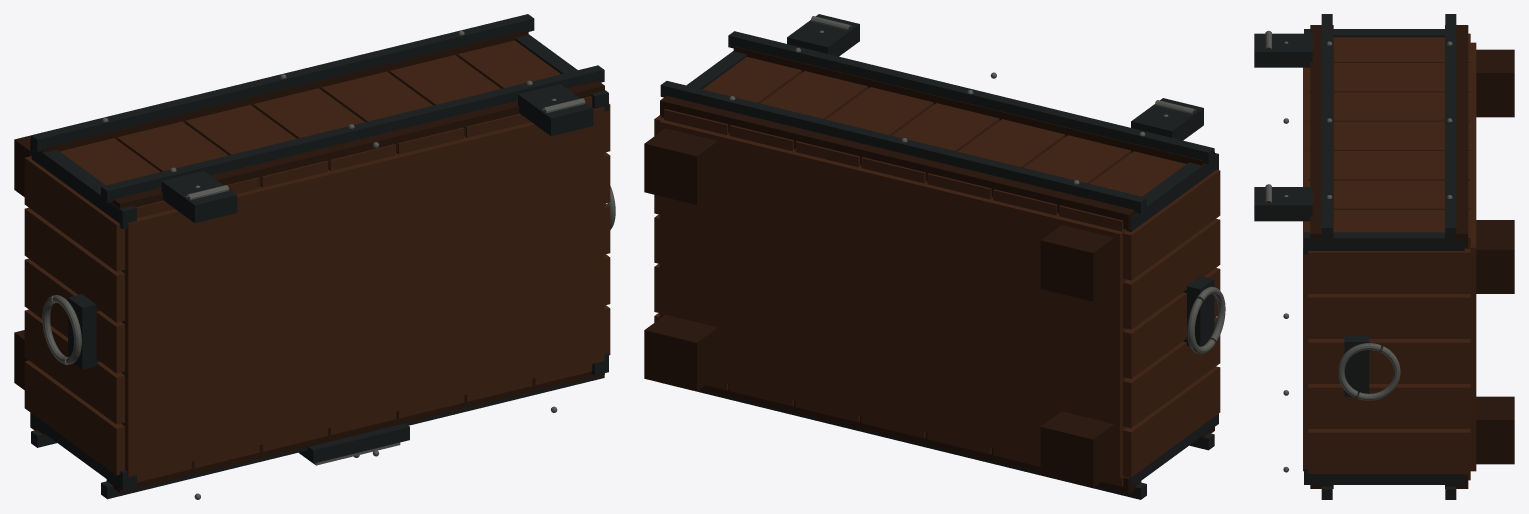
File: SM_GateWardenChest_Base_1348_v1.obj
3 renders of one model, left to right at view 1: azimuth 30°, elevation 25°; view 2: azimuth 150°, elevation 25°; view 3: azimuth 270°, elevation 25°, orthographic. The views are drawn at different scales.
Visible parts, largest first — view 1: Dovetailed_Oak_Base, Black_Iron_Base_Band_1_0.11, Black_Iron_Base_Band_1_0.322, Lower_Frame_1_0.331, Side_Oak_Stave_-1_0, Side_Oak_Stave_-1_3, Side_Oak_Stave_-1_4, Back_Hinge_Castings, Iron_Corner_Binding, Side_Oak_Stave_-1_1, Vertical_Handplaned_Stave_1_2, Vertical_Handplaned_Stave_1_4 (+13 smaller); view 2: Dovetailed_Oak_Base, Black_Iron_Base_Band_1_0.322, Black_Iron_Base_Band_1_0.11, Lower_Frame_1_0.1, Side_Oak_Stave_-1_0, Side_Oak_Stave_-1_3, Side_Oak_Stave_-1_4, Corner_Leg_-1_1, Corner_Leg_-1_-1, Corner_Leg_1_-1, Corner_Leg_1_1, Side_Oak_Stave_-1_1 (+15 smaller); view 3: Side_Oak_Stave_1_0, Side_Oak_Stave_1_3, Side_Oak_Stave_1_4, Side_Oak_Stave_1_1, Side_Oak_Stave_1_2, Iron_Corner_Binding, Dovetailed_Oak_Base, Back_Hinge_Castings, Vertical_Handplaned_Stave_1_2, Vertical_Handplaned_Stave_1_4, Vertical_Handplaned_Stave_1_3, Vertical_Handplaned_Stave_1_1 (+12 smaller).
Part boxes in pixels (bbox=[...]): Dovetailed_Oak_Base: bbox=[30, 107, 604, 476]; Black_Iron_Base_Band_1_0.11: bbox=[31, 14, 534, 151]; Black_Iron_Base_Band_1_0.322: bbox=[101, 65, 604, 202]; Lower_Frame_1_0.331: bbox=[111, 81, 604, 208]; Side_Oak_Stave_-1_0: bbox=[24, 360, 124, 475]; Side_Oak_Stave_-1_3: bbox=[24, 207, 124, 322]; Side_Oak_Stave_-1_4: bbox=[24, 156, 124, 271]; Back_Hinge_Castings: bbox=[161, 84, 593, 223]; Iron_Corner_Binding: bbox=[31, 34, 608, 490]; Side_Oak_Stave_-1_1: bbox=[24, 309, 124, 424]; Vertical_Handplaned_Stave_1_2: bbox=[185, 105, 327, 187]; Vertical_Handplaned_Stave_1_4: bbox=[321, 71, 464, 154]; Dovetailed_Oak_Base: bbox=[659, 119, 1126, 478]; Black_Iron_Base_Band_1_0.322: bbox=[728, 31, 1214, 164]; Black_Iron_Base_Band_1_0.11: bbox=[660, 81, 1146, 213]; Lower_Frame_1_0.1: bbox=[660, 96, 1136, 229]; Side_Oak_Stave_-1_0: bbox=[1123, 366, 1220, 477]; Side_Oak_Stave_-1_3: bbox=[1123, 218, 1220, 329]; Side_Oak_Stave_-1_4: bbox=[1123, 169, 1220, 280]; Corner_Leg_-1_1: bbox=[1040, 225, 1114, 301]; Corner_Leg_-1_-1: bbox=[1040, 411, 1114, 487]; Corner_Leg_1_-1: bbox=[644, 314, 717, 391]; Corner_Leg_1_1: bbox=[644, 128, 717, 204]; Side_Oak_Stave_-1_1: bbox=[1123, 317, 1220, 428]; Side_Oak_Stave_1_0: bbox=[1308, 429, 1470, 473]; Side_Oak_Stave_1_3: bbox=[1308, 294, 1470, 338]; Side_Oak_Stave_1_4: bbox=[1308, 249, 1470, 293]; Side_Oak_Stave_1_1: bbox=[1308, 384, 1470, 428]; Side_Oak_Stave_1_2: bbox=[1308, 339, 1470, 383]; Iron_Corner_Binding: bbox=[1304, 29, 1464, 484]; Dovetailed_Oak_Base: bbox=[1303, 42, 1476, 471]; Back_Hinge_Castings: bbox=[1254, 33, 1312, 221]; Vertical_Handplaned_Stave_1_2: bbox=[1308, 92, 1470, 121]; Vertical_Handplaned_Stave_1_4: bbox=[1308, 151, 1470, 180]; Vertical_Handplaned_Stave_1_3: bbox=[1308, 121, 1470, 150]; Vertical_Handplaned_Stave_1_1: bbox=[1308, 63, 1470, 92].
Bounding box in the file's own units: 0.944 × 0.5626 × 0.4465.
